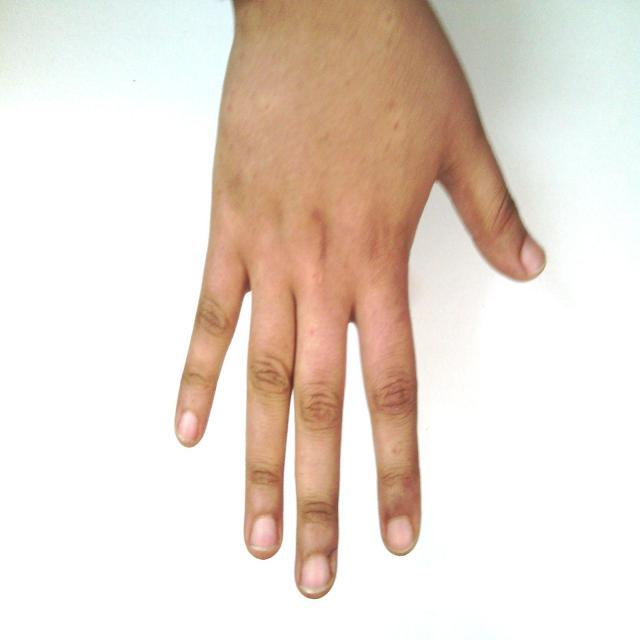Fingernail: (300, 555, 330, 595), (388, 518, 414, 552), (251, 516, 277, 549), (522, 239, 544, 275), (179, 412, 199, 441)
